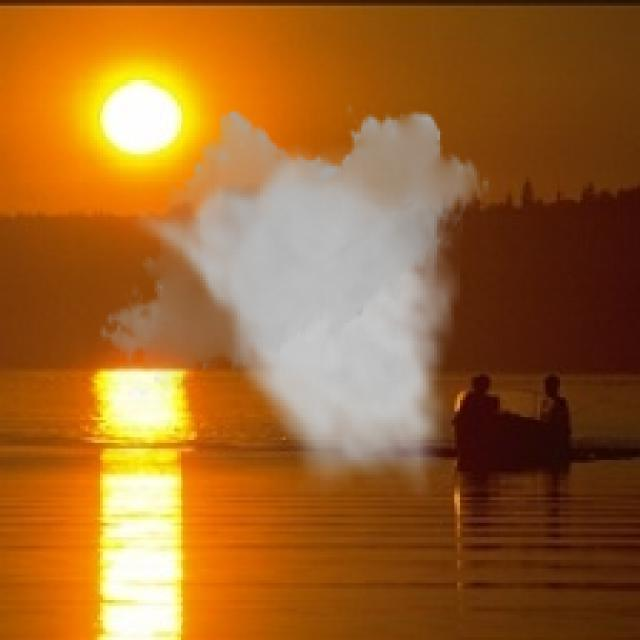Smoke: (97, 100, 492, 497)
